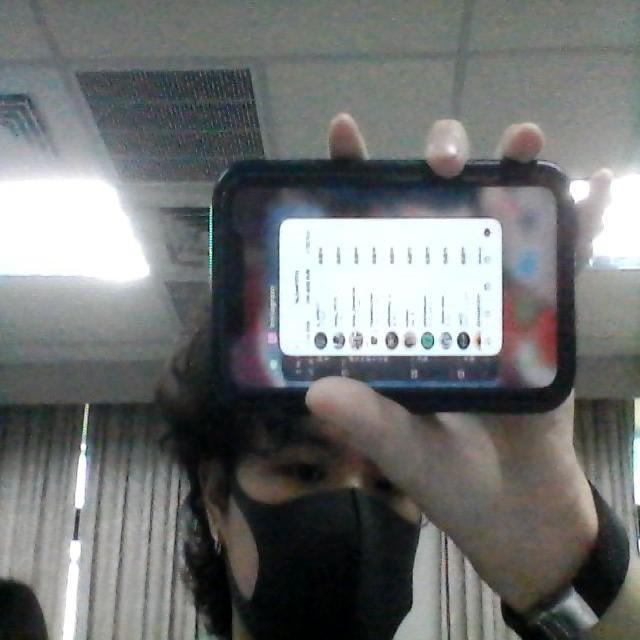phone: (202, 141, 586, 421)
